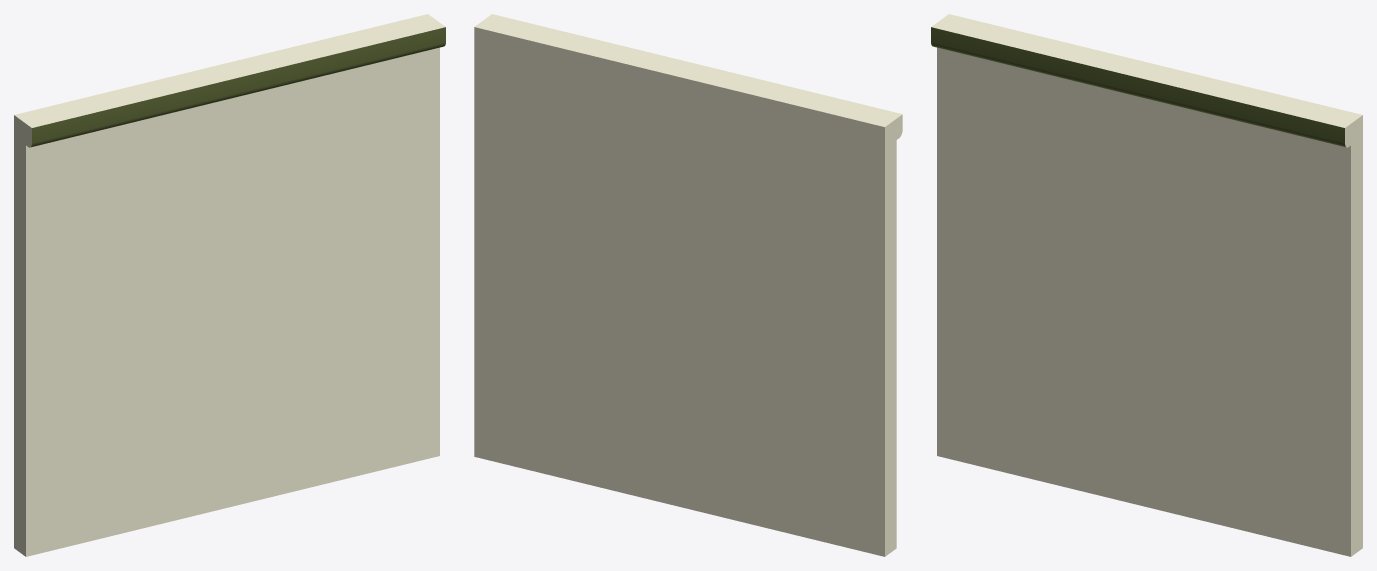
File: Modular_02_Wall_2m.fbx
3 renders of one model, left to right at view 1: azimuth 30°, elevation 25°; view 2: azimuth 150°, elevation 25°; view 3: azimuth 330°, elevation 25°, orthographic.
Visible parts, largest first — view 1: Modular_02_Wall_2m; view 2: Modular_02_Wall_2m; view 3: Modular_02_Wall_2m.
Part boxes in pixels (x1=…): Modular_02_Wall_2m: x1=14, y1=14, x2=445, y2=556; Modular_02_Wall_2m: x1=474, y1=14, x2=902, y2=556; Modular_02_Wall_2m: x1=931, y1=14, x2=1362, y2=556.
Size of the model in its own units: 200 by 200 by 15.
